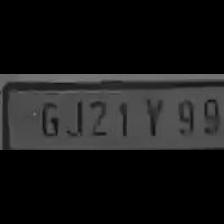1: (110, 95, 136, 139)
2: (84, 95, 112, 139)
9: (170, 93, 198, 137), (197, 94, 221, 136)
G: (36, 96, 60, 138)
J: (62, 95, 84, 139)
Y: (138, 94, 167, 139)
